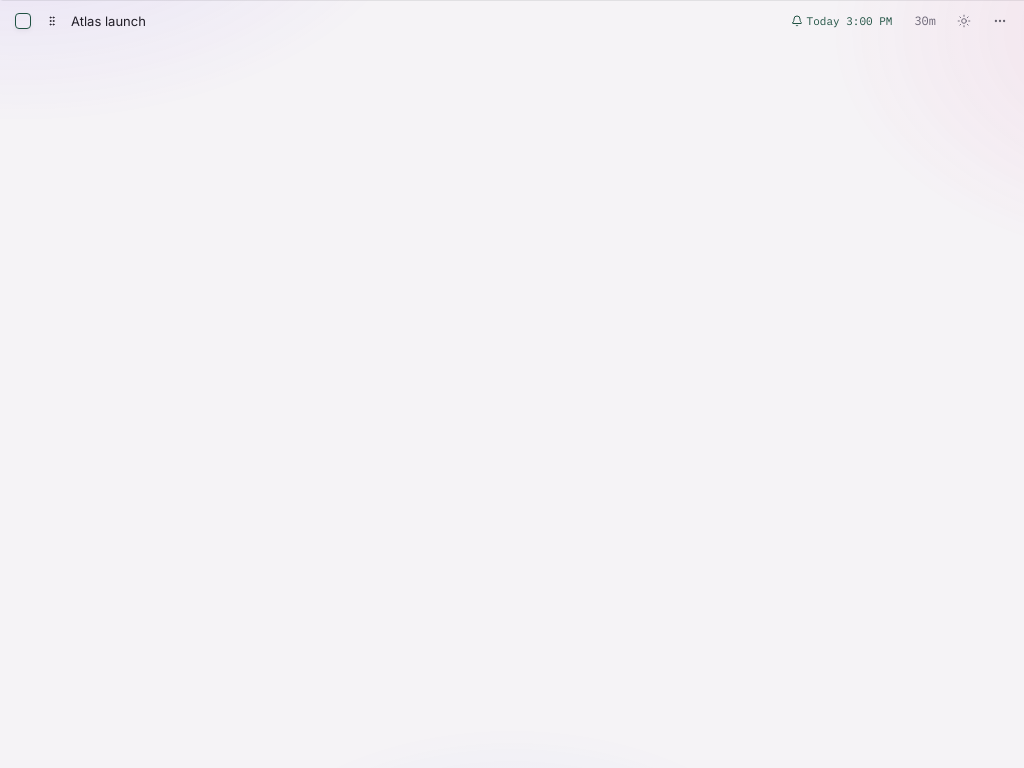
Scenario: TaskRow — quiet row (chunk 71) › (3) a reminder later today: bell + time chip that opens the reminder picker
Check: the 2nd icon is shown, box [791,15,803,27]
Click the button with aria-label "Reminder Tuesday, October 13, 3:00 PM — edit reminder" at (842, 21), box [785,9,898,33]
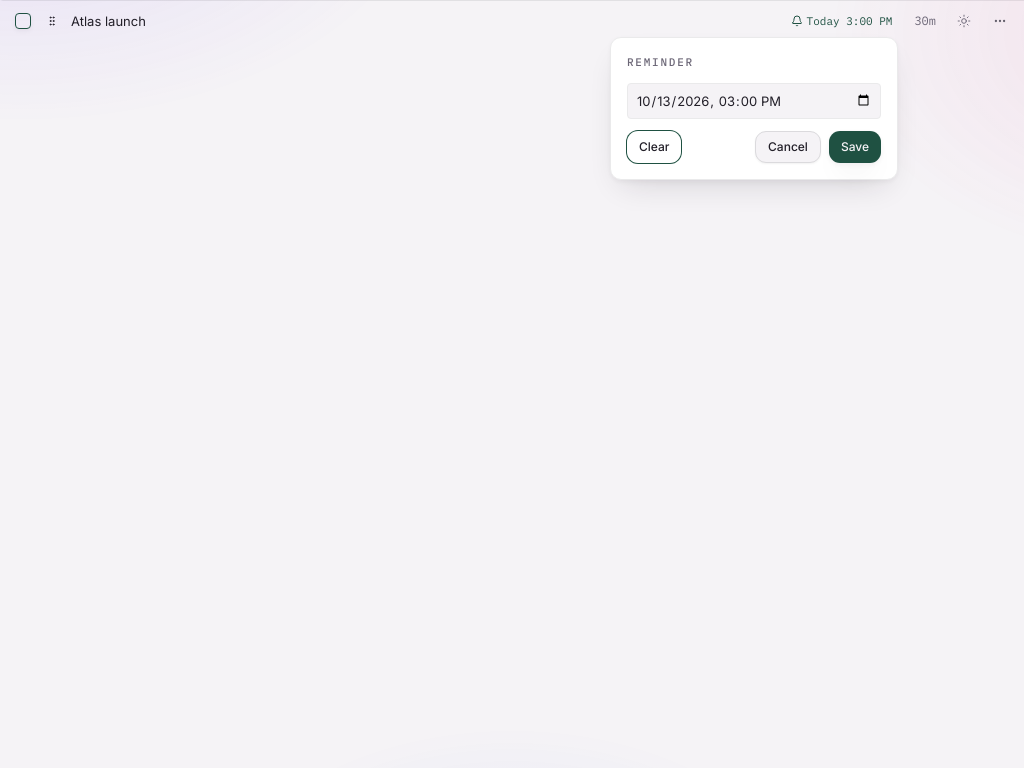
Check: the field named "Reminder date and time" is shown, box [627,82,881,118]
